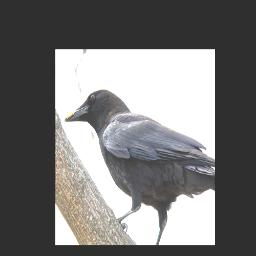Crow: (64, 89, 215, 245)
